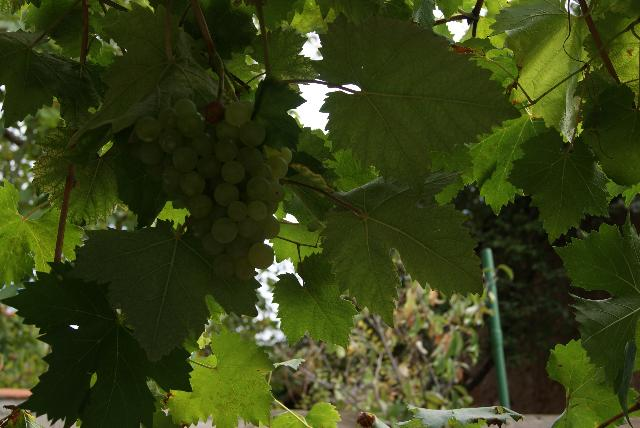grapes: (134, 99, 291, 280)
